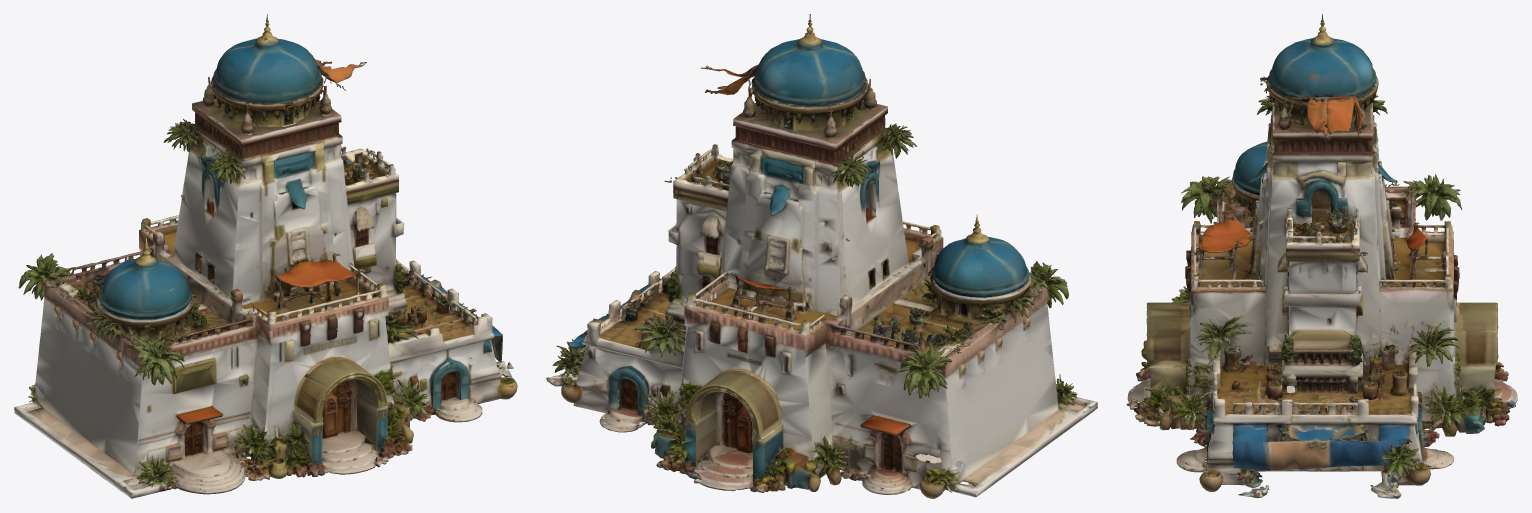
The model's file is Desert_Oasis_Palace.glb.
3 views of the same model, side by side, from view 1: azimuth 30°, elevation 25°; view 2: azimuth 150°, elevation 25°; view 3: azimuth 270°, elevation 25° (orthographic). The views are drawn at different scales.
Parts seen in each view (by area): view 1: Desert_Oasis_Palace; view 2: Desert_Oasis_Palace; view 3: Desert_Oasis_Palace.
Boxes of the visible parts, bbox=[...] form: Desert_Oasis_Palace: bbox=[14, 14, 517, 498]; Desert_Oasis_Palace: bbox=[546, 14, 1097, 498]; Desert_Oasis_Palace: bbox=[1126, 14, 1517, 498].
Bounding box in the file's own units: 1.92 × 1.67 × 1.54.
Materials: 1 (1 with a texture image).
